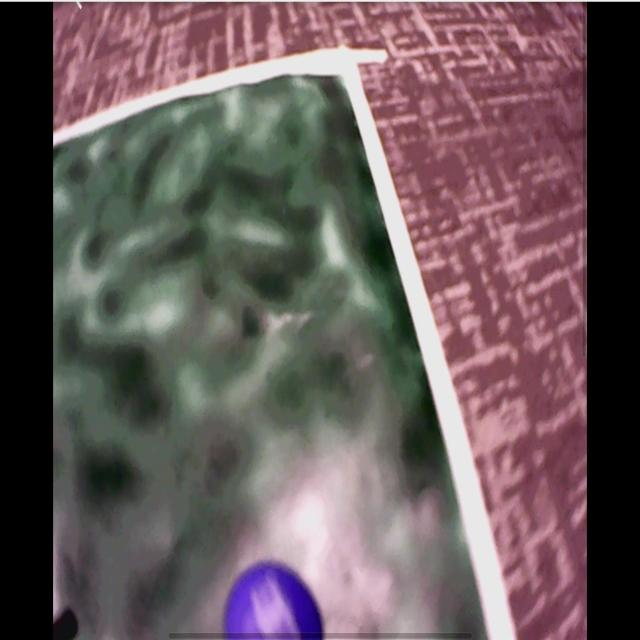ball: (225, 561, 324, 640)
